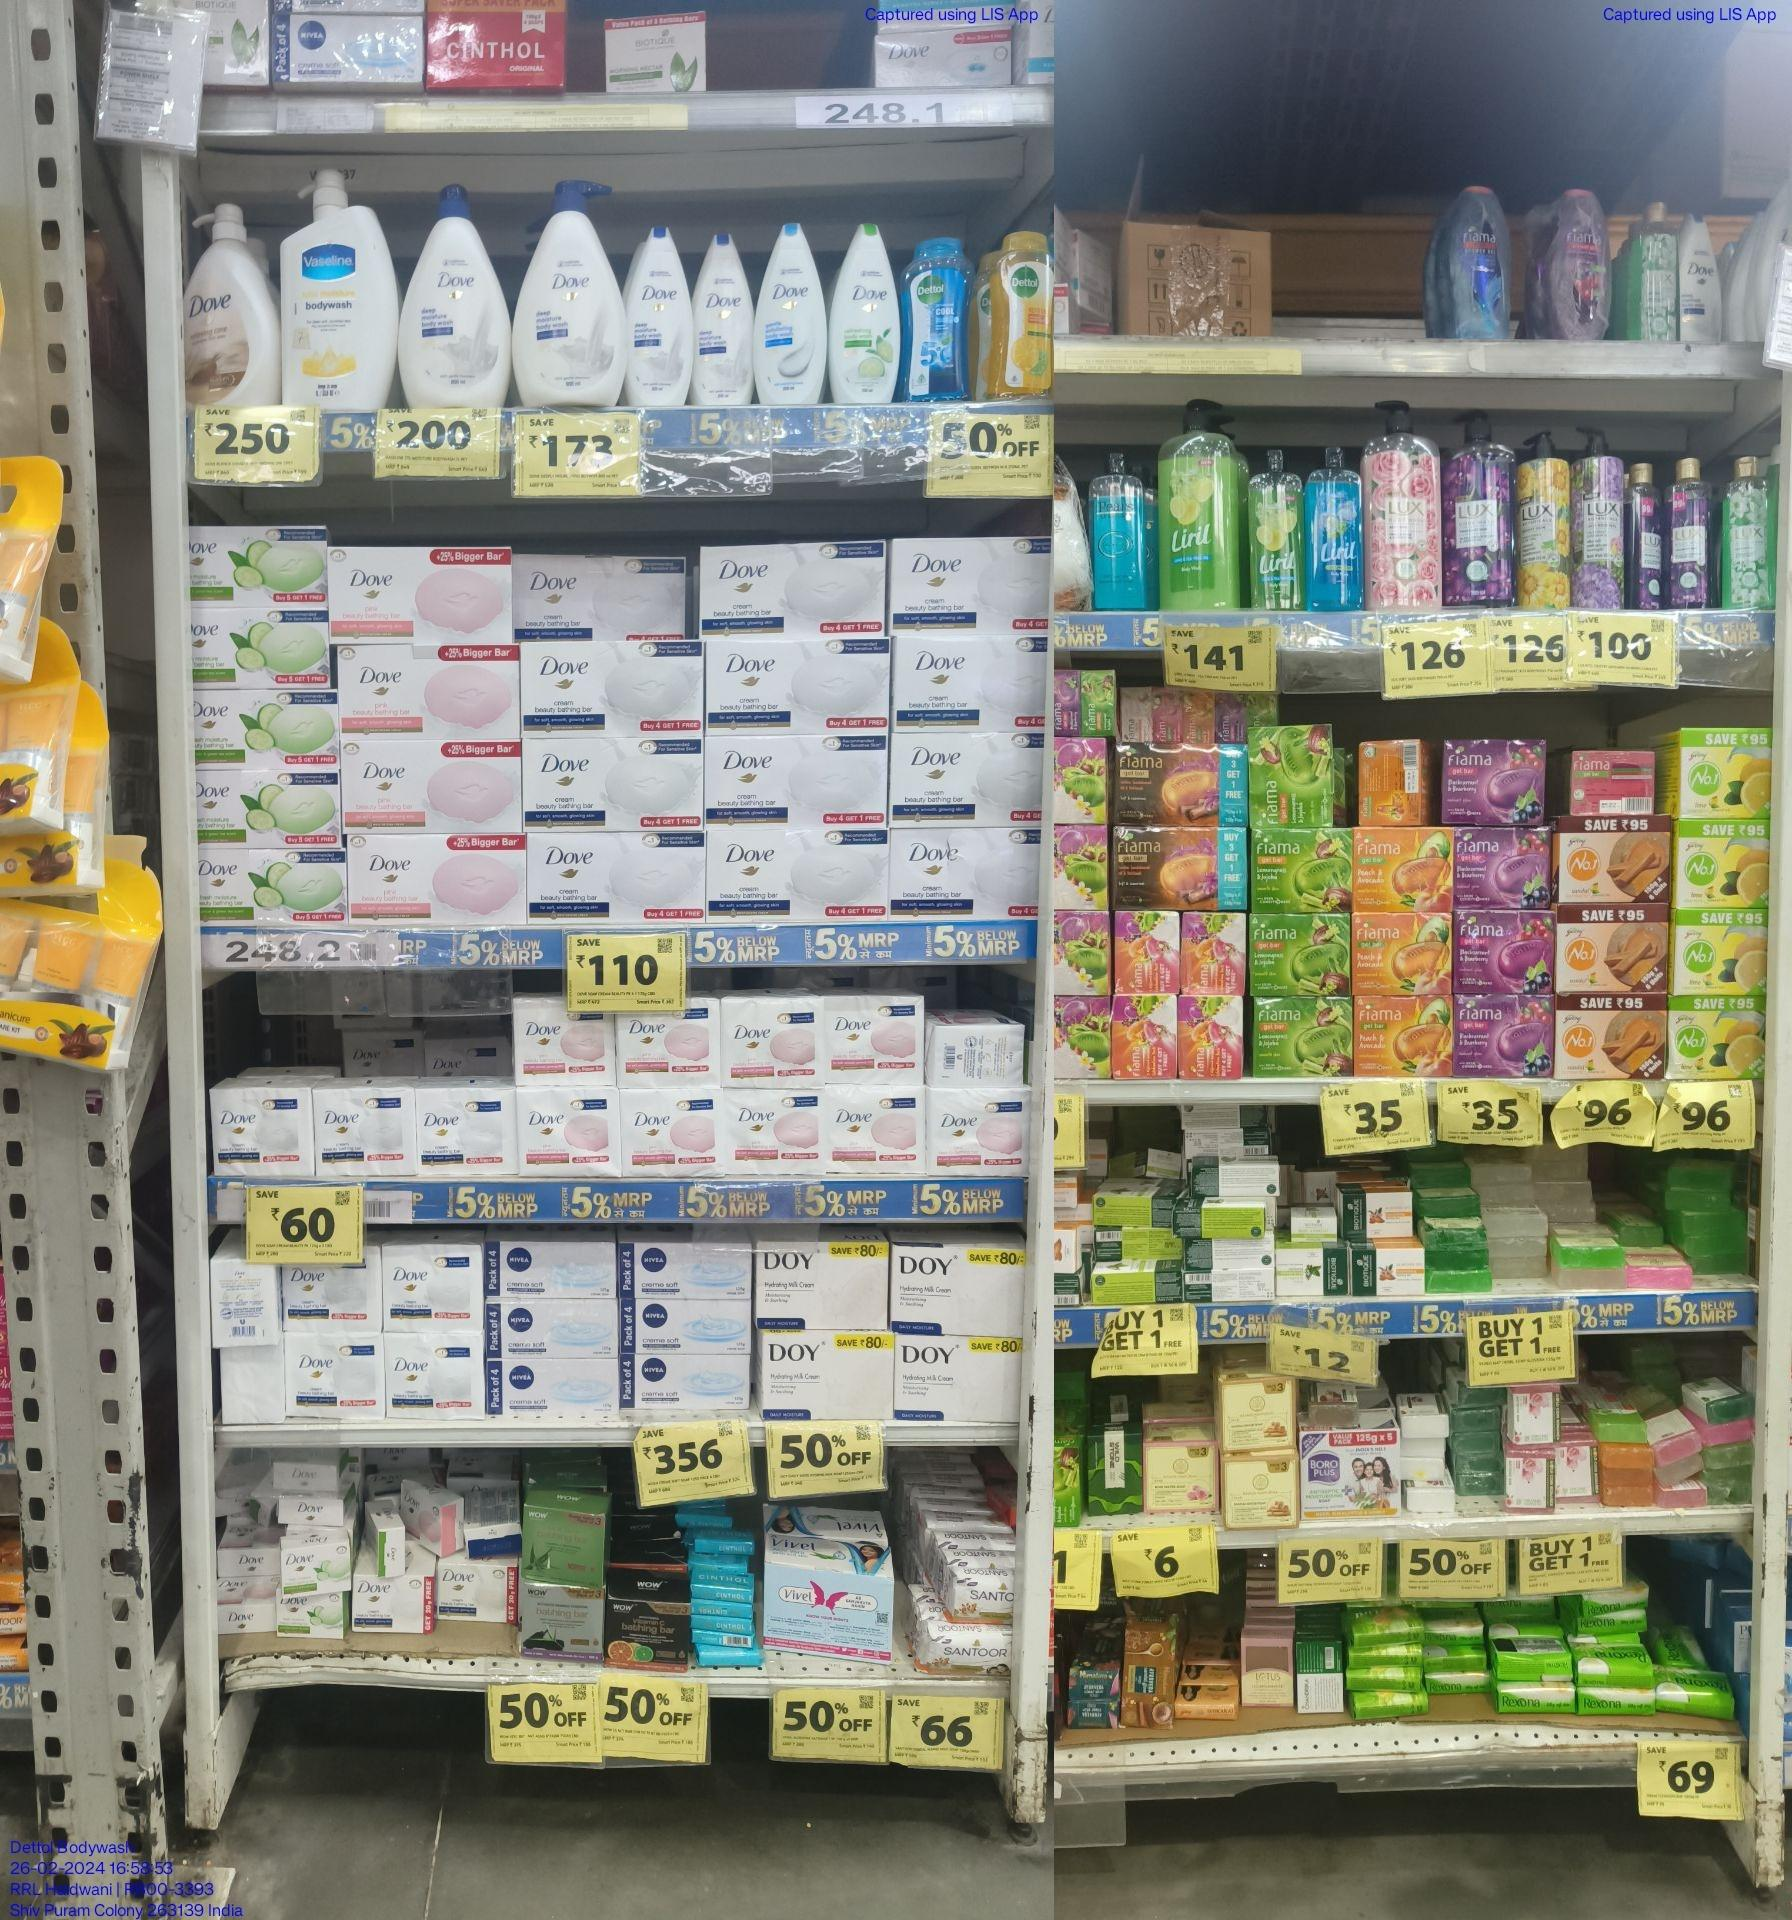Dettol_Bodywash_Cool: (908, 236, 970, 399)
Dettol_Bodywash_Refresh: (997, 231, 1059, 392)
Dove_Deep_Moisture_Body_Wash_250ML: (627, 227, 696, 406), (694, 229, 755, 404)
Dove_Gentle_Exfoliating_Body_Wash_250ML: (753, 222, 822, 401)
Dove_Refreshing_Body_Wash_250ML: (829, 221, 903, 401)
Lux_Black_Orchid_Scent_and_Juniper_Oil_Body_Wash_245ML: (1656, 460, 1709, 601)
